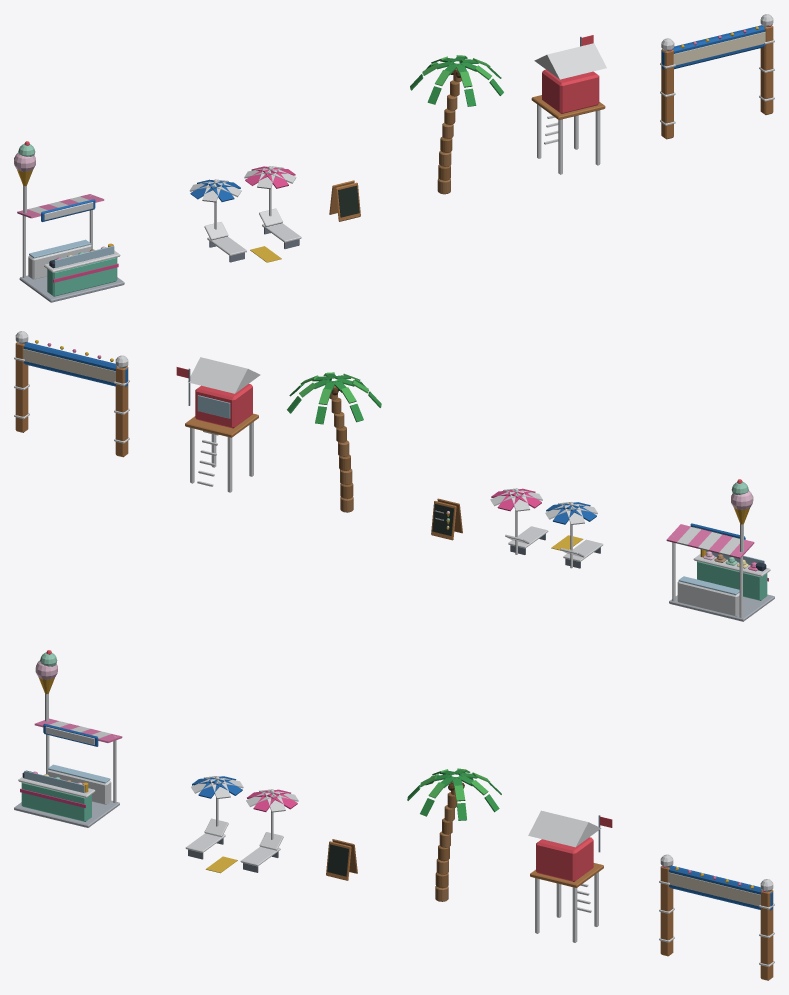
The model's file is boardwalk.glb.
3 renders of one model, top to bottom at view 1: azimuth 30°, elevation 25°; view 2: azimuth 150°, elevation 25°; view 3: azimuth 330°, elevation 25°, orthographic.
Visible parts, largest first — view 1: bw_kiosk_mesh, bw_lifeguard_mesh, bw_pier_mesh, bw_parasols_mesh, bw_palm_mesh, bw_menu_mesh; view 2: bw_kiosk_mesh, bw_lifeguard_mesh, bw_pier_mesh, bw_parasols_mesh, bw_palm_mesh, bw_menu_mesh; view 3: bw_kiosk_mesh, bw_lifeguard_mesh, bw_pier_mesh, bw_parasols_mesh, bw_palm_mesh, bw_menu_mesh.
Boxes of the visible parts, <box> form: bw_kiosk_mesh: <box>14,141,124,302</box>; bw_lifeguard_mesh: <box>531,35,606,174</box>; bw_pier_mesh: <box>660,14,774,139</box>; bw_parasols_mesh: <box>189,166,301,262</box>; bw_palm_mesh: <box>410,55,503,194</box>; bw_menu_mesh: <box>329,180,360,221</box>; bw_kiosk_mesh: <box>666,479,774,621</box>; bw_lifeguard_mesh: <box>176,357,260,492</box>; bw_pier_mesh: <box>14,331,129,457</box>; bw_parasols_mesh: <box>490,488,603,568</box>; bw_palm_mesh: <box>287,372,381,512</box>; bw_menu_mesh: <box>431,498,462,540</box>; bw_kiosk_mesh: <box>14,650,122,827</box>; bw_lifeguard_mesh: <box>528,810,612,942</box>; bw_pier_mesh: <box>659,854,774,980</box>; bw_parasols_mesh: <box>185,776,298,873</box>; bw_palm_mesh: <box>407,768,501,901</box>; bw_menu_mesh: <box>326,839,357,880</box>.
Size of the model in its own units: 29.95 by 5.35 by 3.66.
